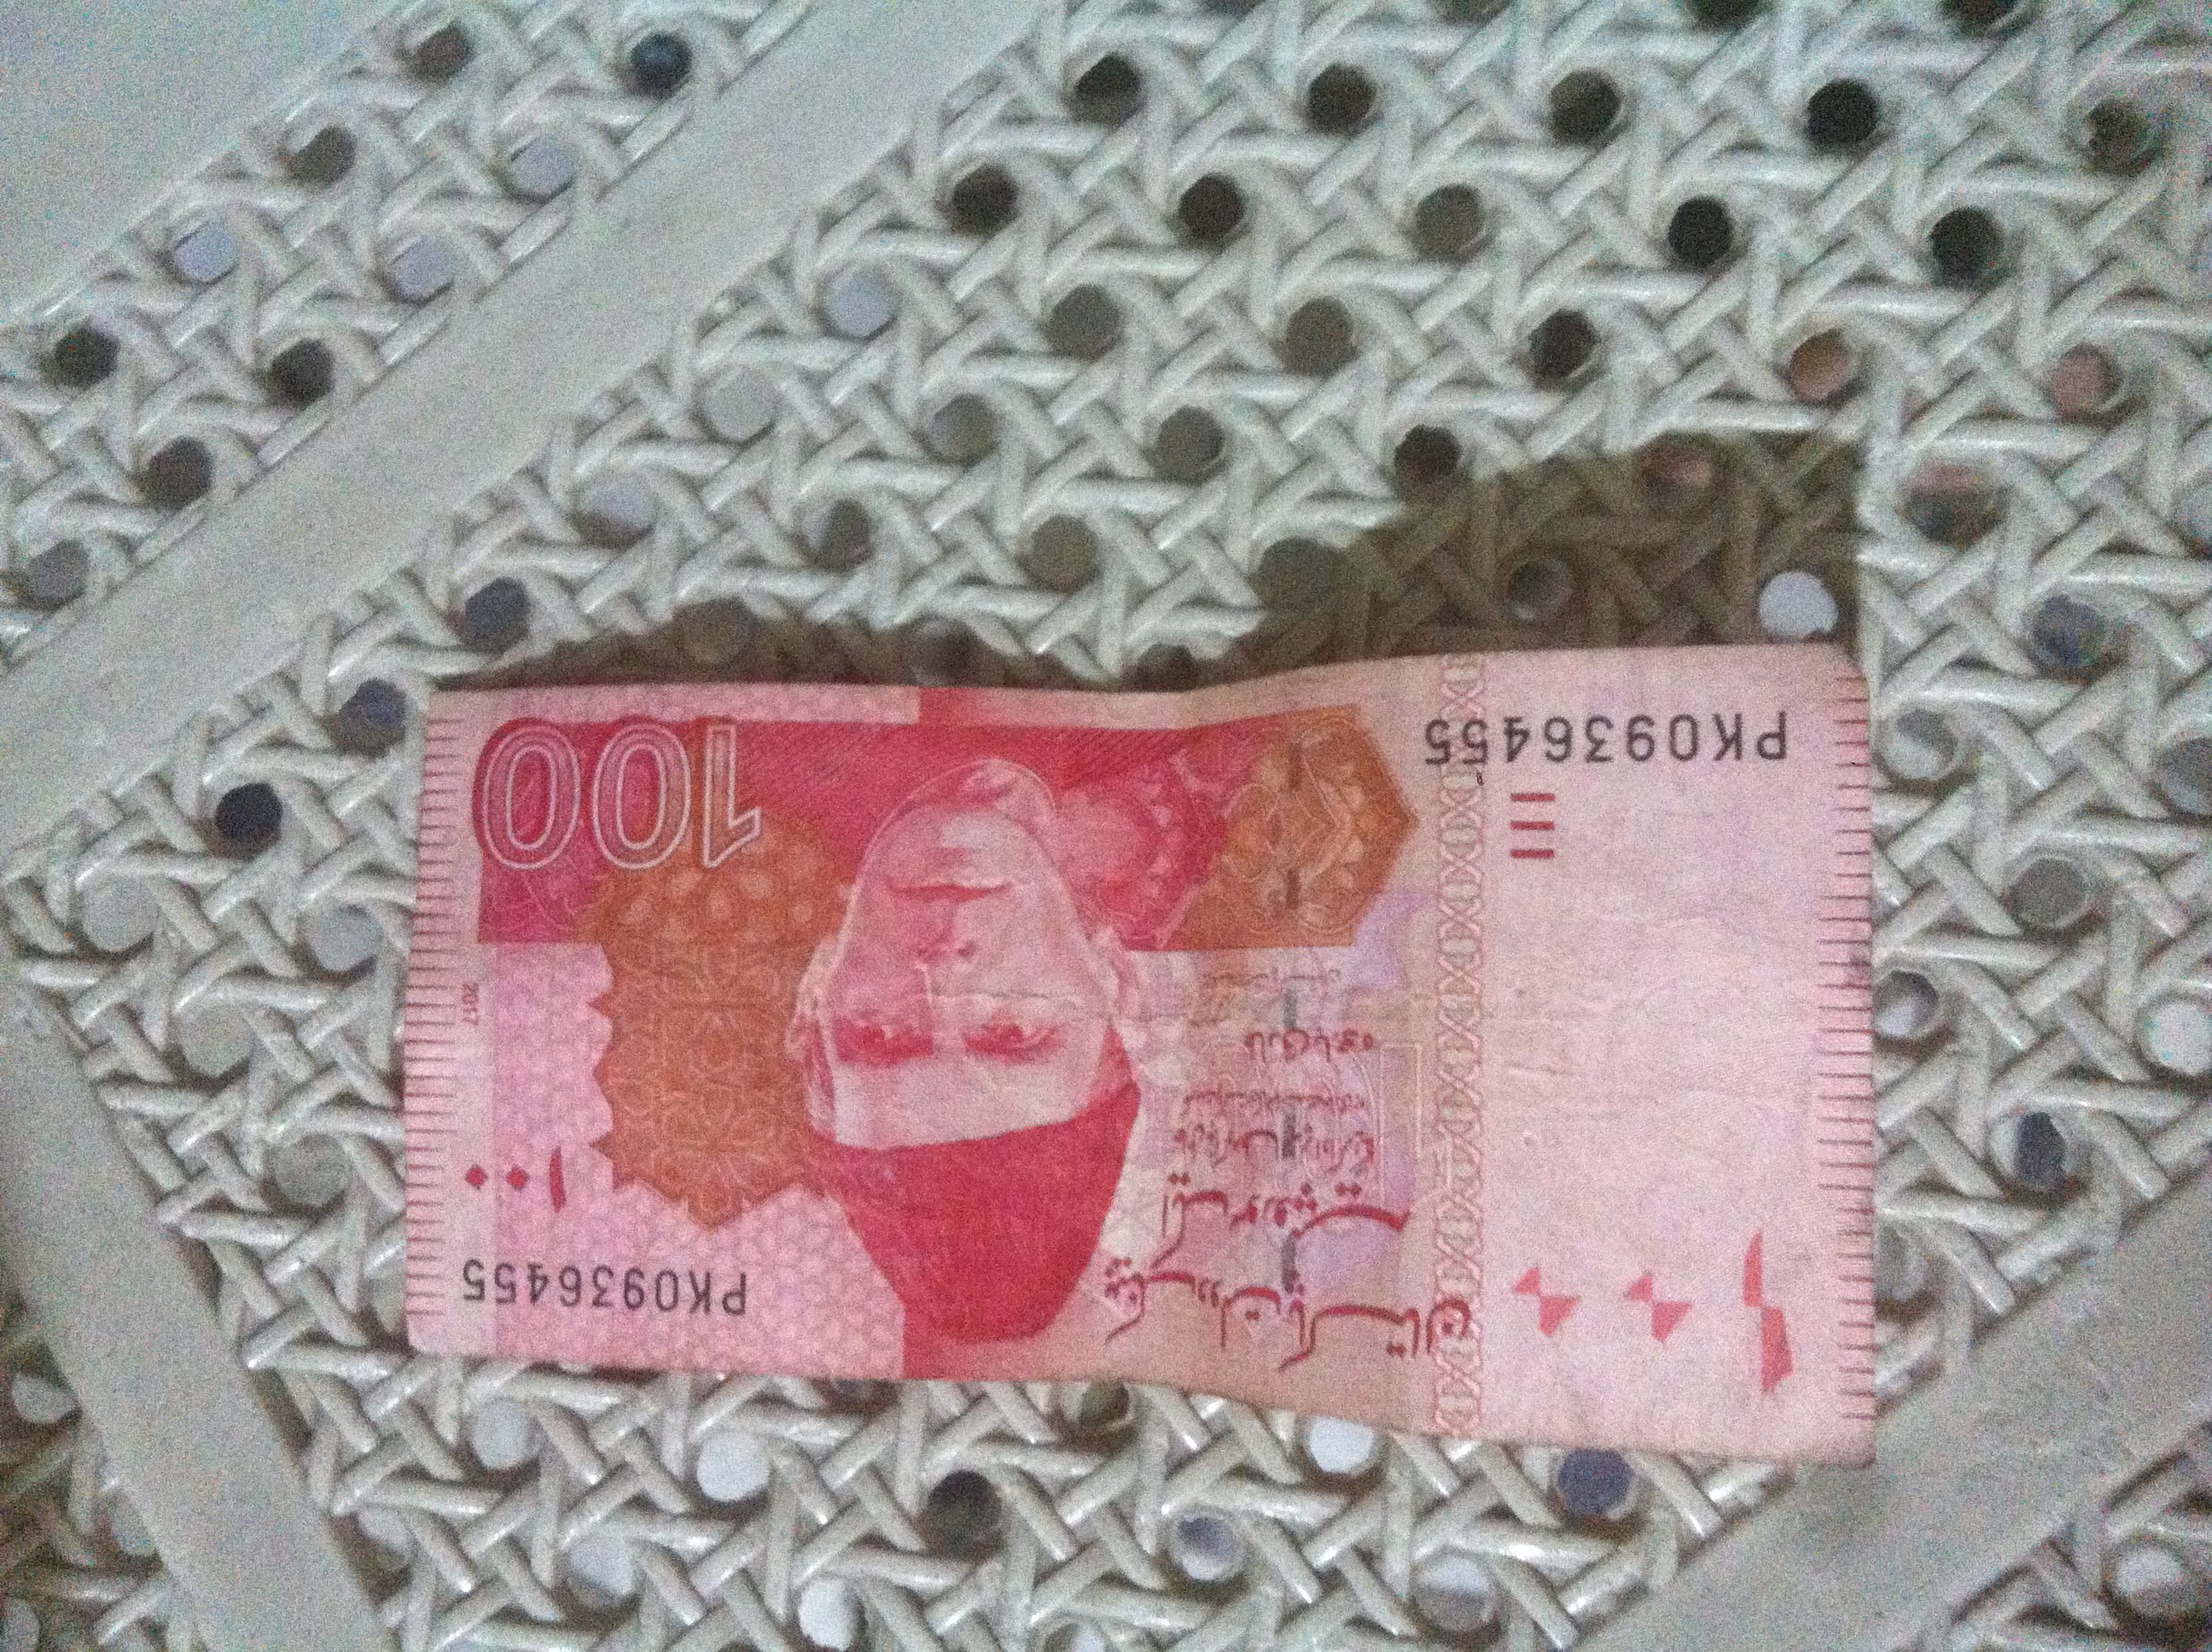100 rupee: (396, 644, 1891, 1447)
